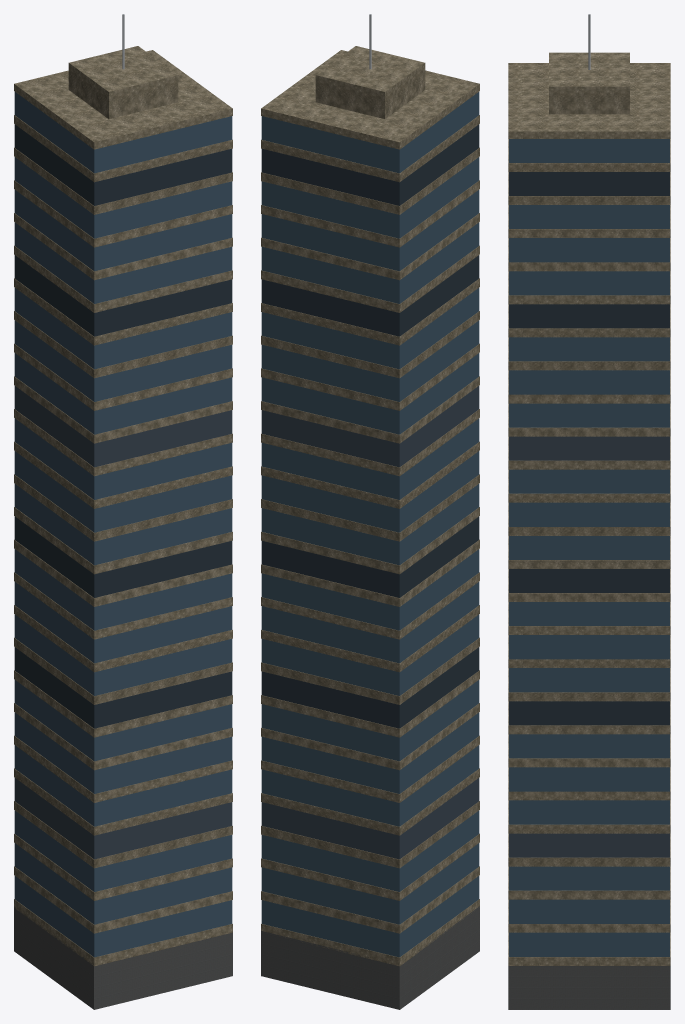
Rendered from tower-b.glb.
3 renders of one model, left to right at view 1: azimuth 30°, elevation 25°; view 2: azimuth 150°, elevation 25°; view 3: azimuth 270°, elevation 25°, orthographic.
Parts seen in each view (by area): view 1: TowerB; view 2: TowerB; view 3: TowerB.
Boxes of the visible parts, x1=… form: TowerB: x1=14, y1=14, x2=232, y2=1009; TowerB: x1=261, y1=14, x2=479, y2=1009; TowerB: x1=508, y1=14, x2=670, y2=1009.
Bounding box in the file's own units: 16 × 105 × 16.
Materials: 7 (2 with a texture image).
